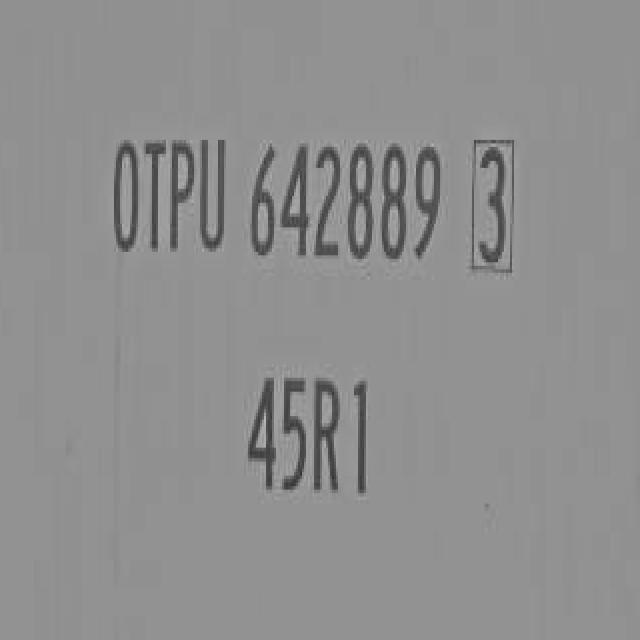dv: (462, 126, 522, 283)
owner: (108, 127, 229, 271)
serial: (241, 127, 445, 273)
size: (230, 358, 377, 502)
